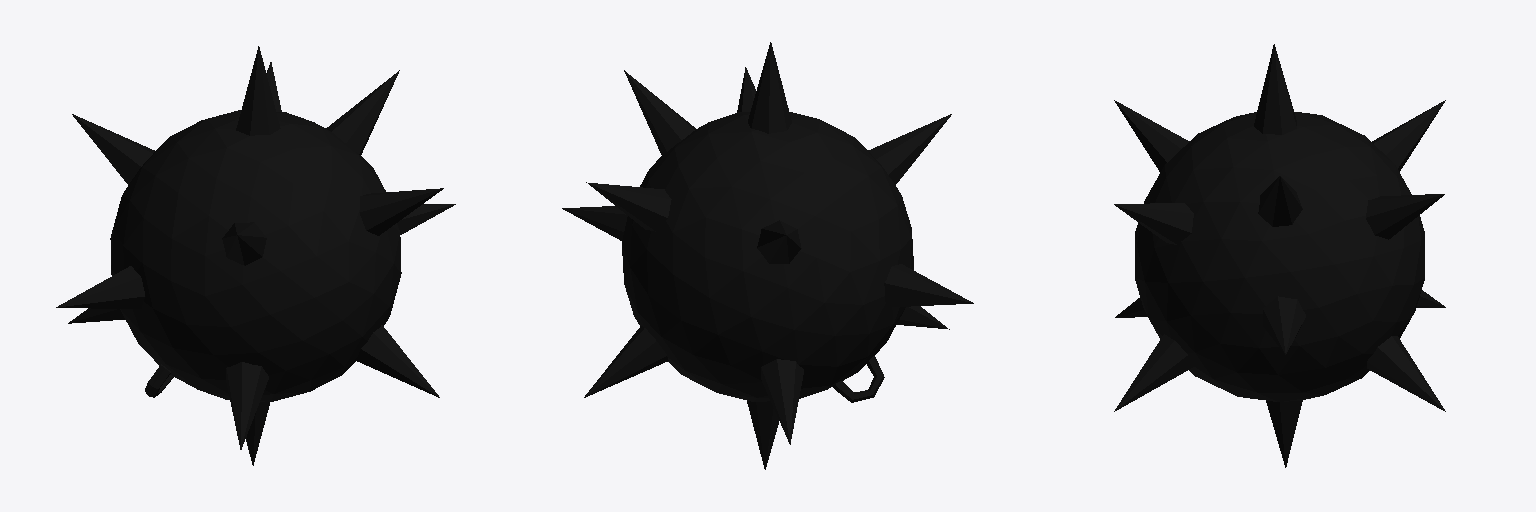
File: TROW_BALL.obj
The picture shows the model from 3 angles: view 1: azimuth 30°, elevation 25°; view 2: azimuth 150°, elevation 25°; view 3: azimuth 270°, elevation 25°; orthographic projection.
Parts seen in each view (by area): view 1: Torus.000_Torus.024; view 2: Torus.000_Torus.024; view 3: Torus.000_Torus.024.
Boxes of the visible parts, x1,y1,x2,y2 form: Torus.000_Torus.024: [56, 46, 455, 465]; Torus.000_Torus.024: [562, 42, 973, 469]; Torus.000_Torus.024: [1114, 44, 1445, 467].
Size of the model in its own units: 9.6 by 9.6 by 6.79.